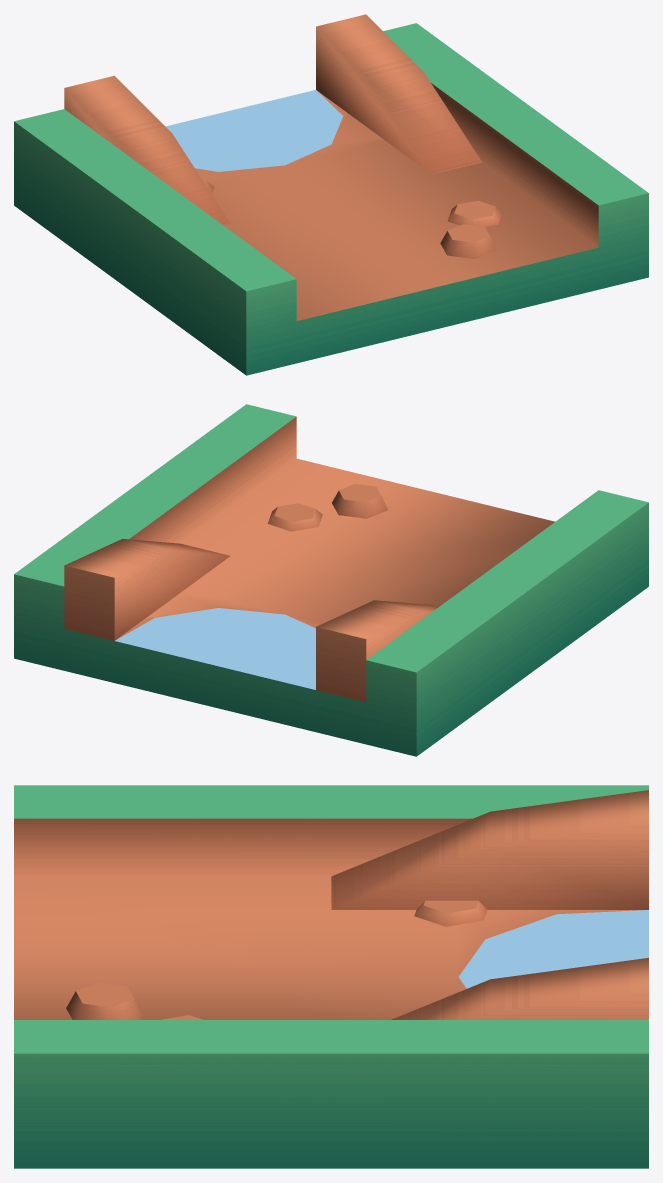
The model's file is tile-river-transition.glb.
3 views of the same model, one above another, from view 1: azimuth 30°, elevation 25°; view 2: azimuth 150°, elevation 25°; view 3: azimuth 270°, elevation 25° (orthographic). The views are drawn at different scales.
Parts seen in each view (by area): view 1: tile-river-transition; view 2: tile-river-transition; view 3: tile-river-transition.
Boxes of the visible parts, x1,y1,x2,y2 form: tile-river-transition: [14, 14, 648, 375]; tile-river-transition: [14, 404, 648, 756]; tile-river-transition: [14, 785, 648, 1168].
Bounding box in the file's own units: 1 × 0.25 × 1.
1 material, 1 textured.
